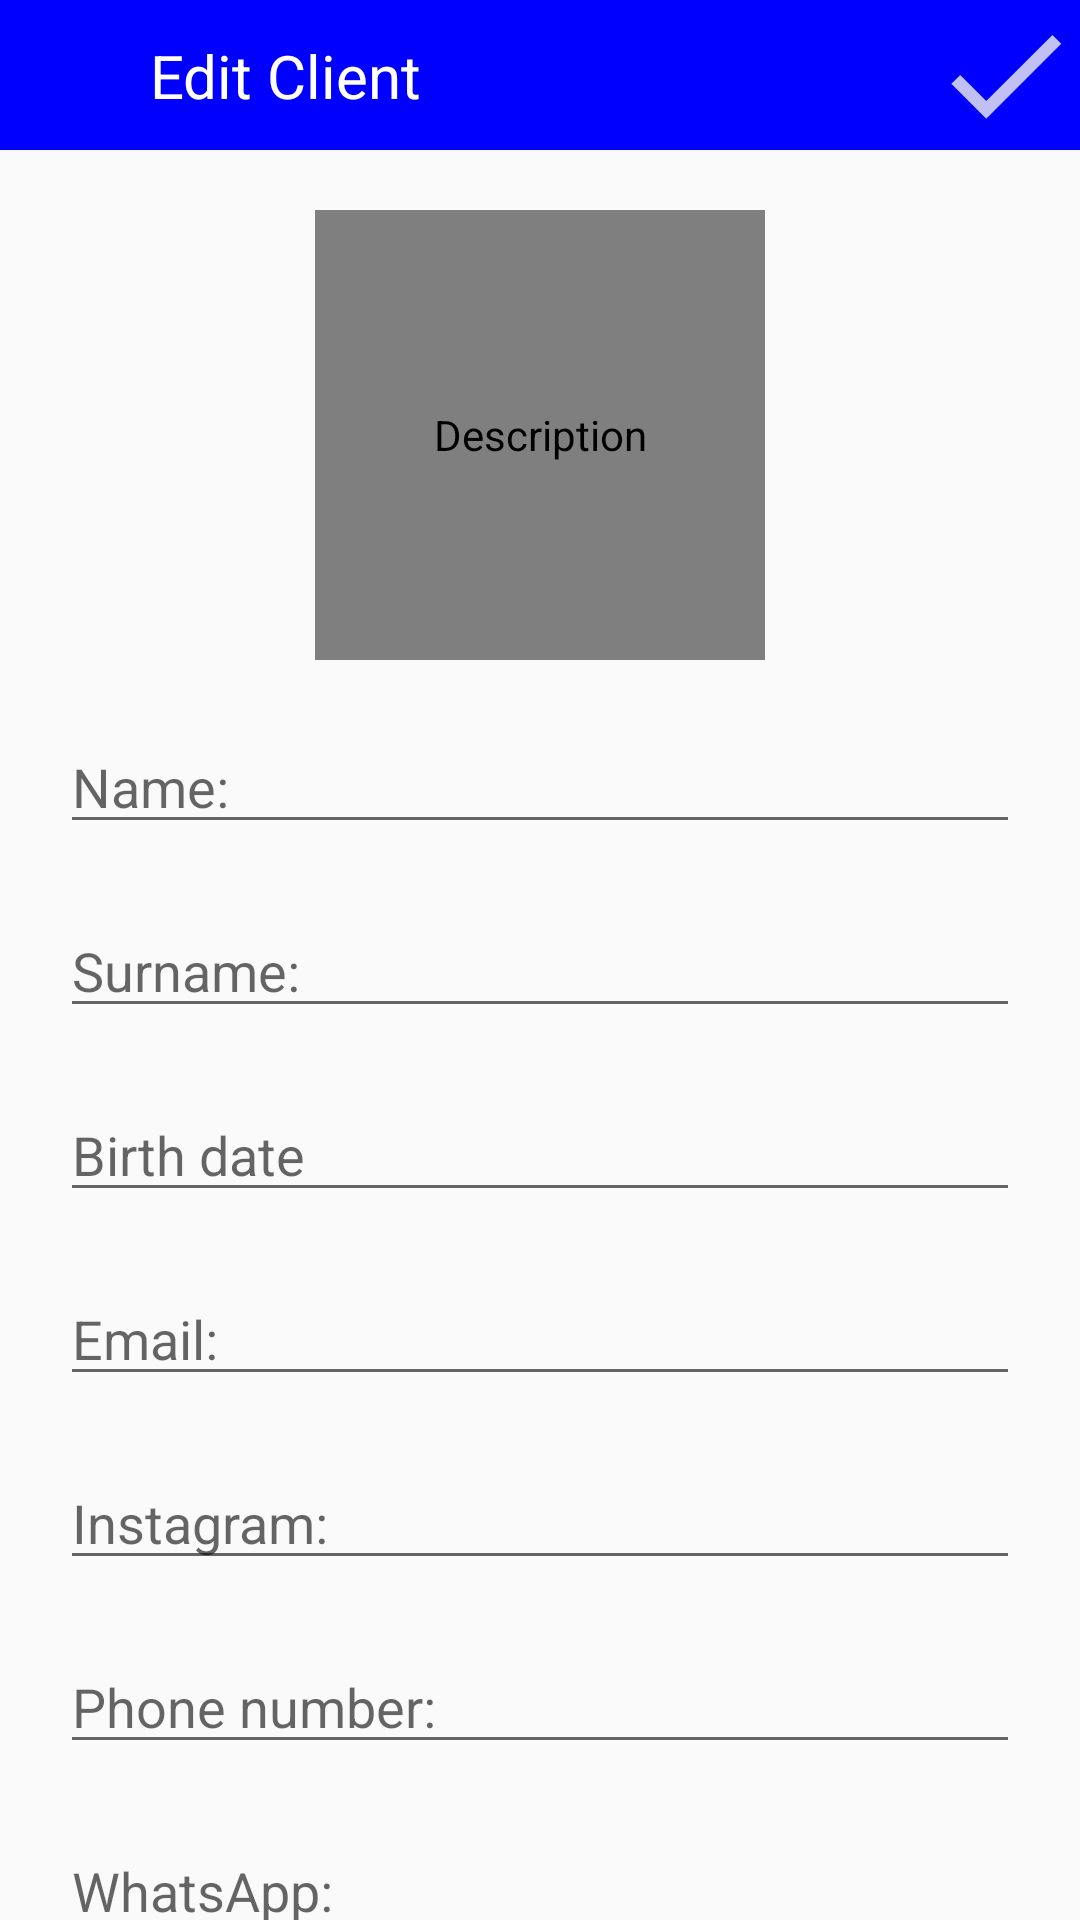

Named icons in this screenshot (1080 × 1920) and their bounding boxes, (x1, y1, x2, y2):
apply edit: (951, 35, 1061, 119)
